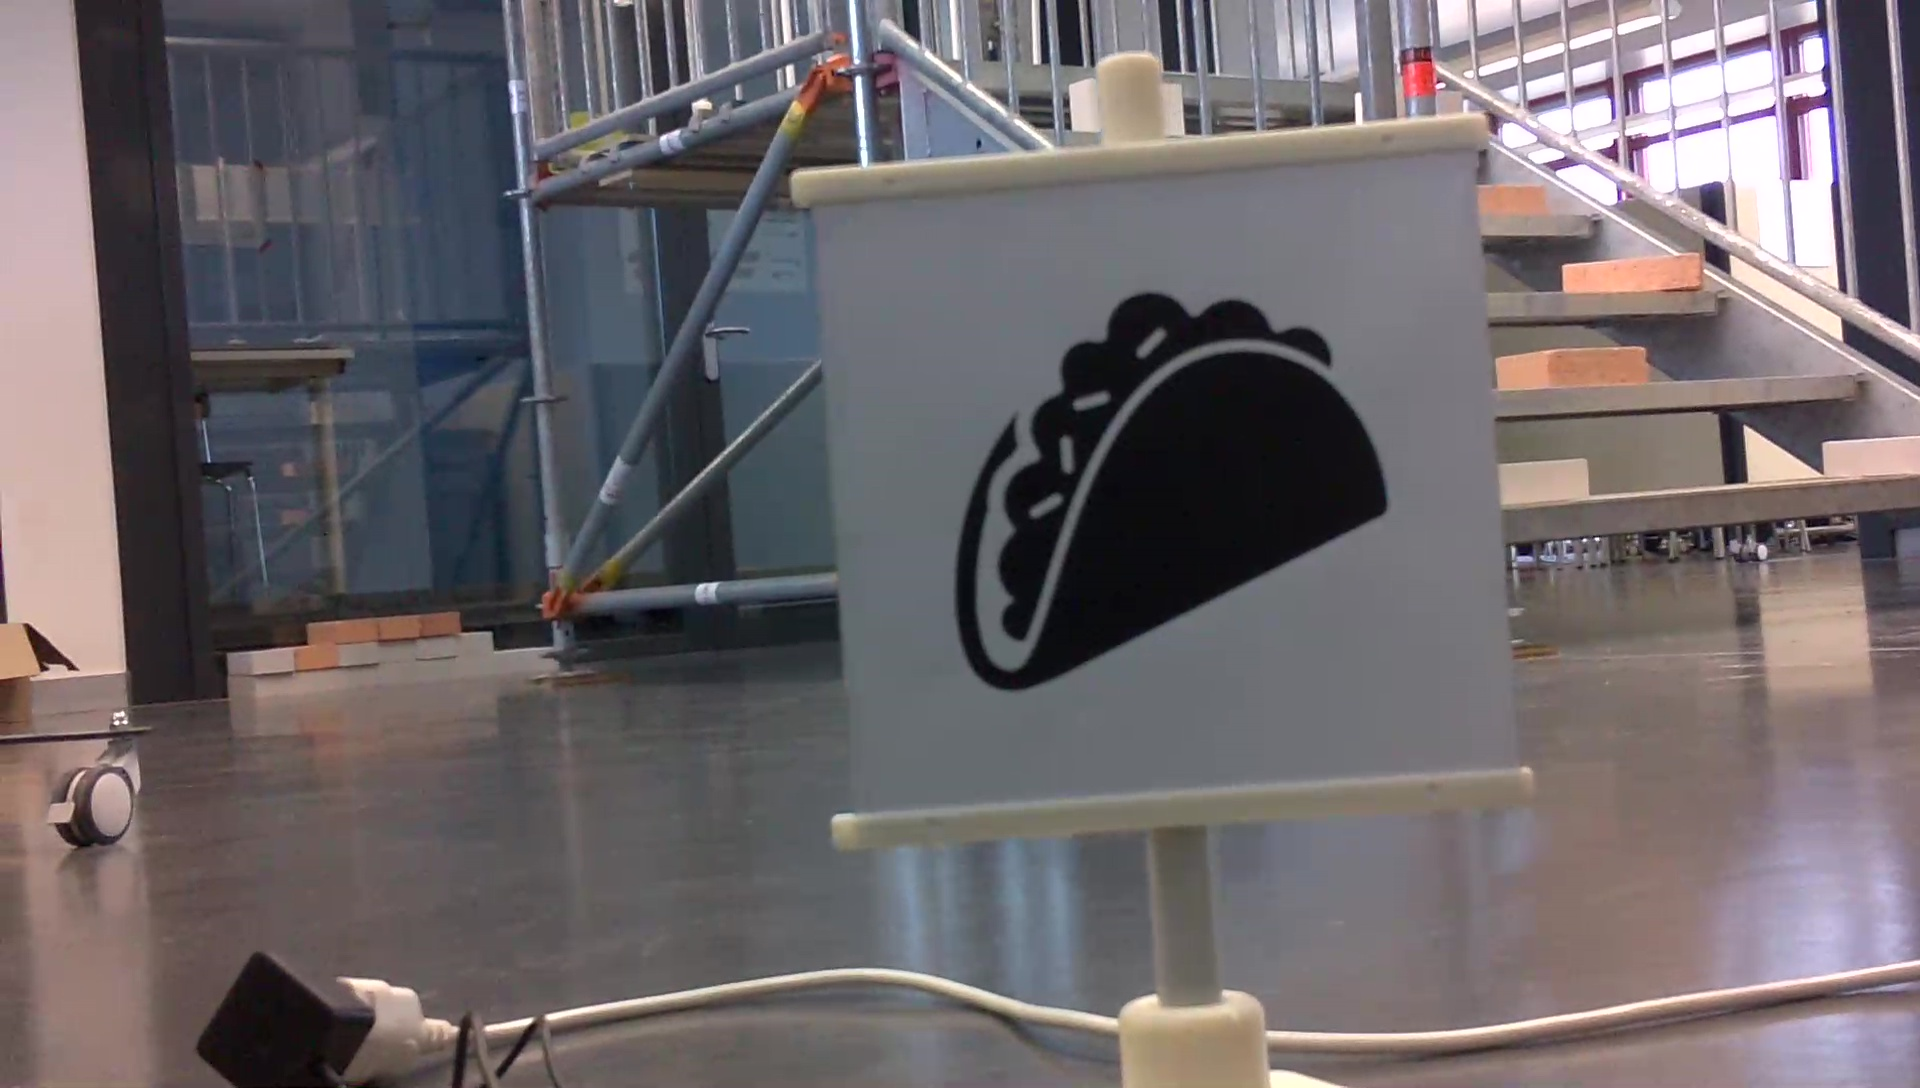brick: (1498, 349, 1643, 386), (1563, 256, 1702, 291), (1499, 455, 1586, 505), (1825, 435, 1917, 472), (1477, 179, 1548, 214)
taco: (938, 280, 1399, 703)
